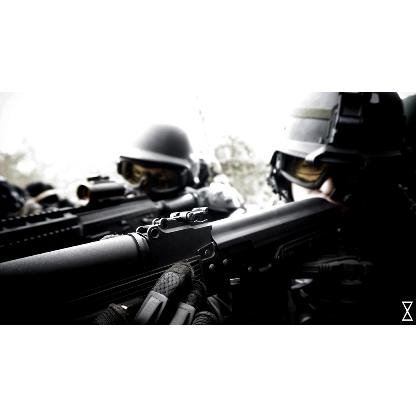gun: (0, 160, 372, 324)
